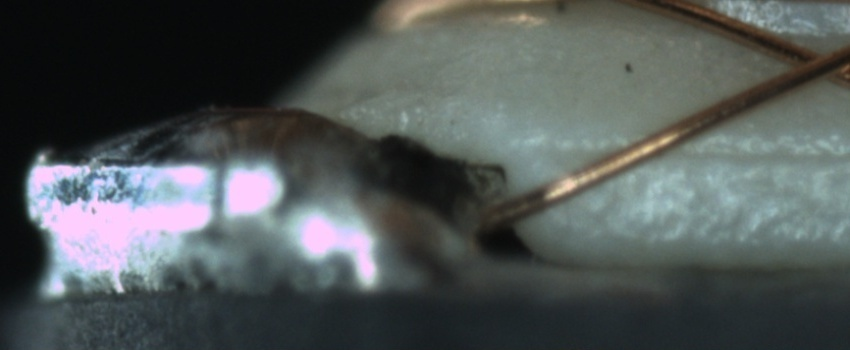CL: (772, 32, 849, 88)
DL: (554, 122, 849, 185)
